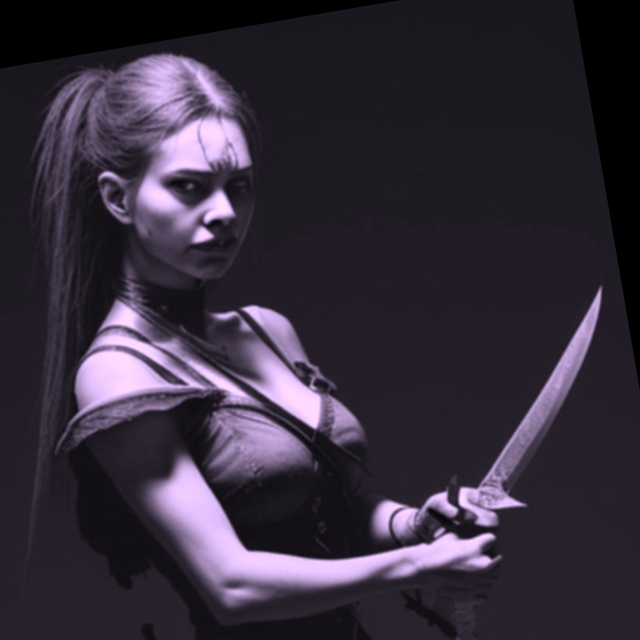Sharp-Object: (329, 276, 640, 640)
